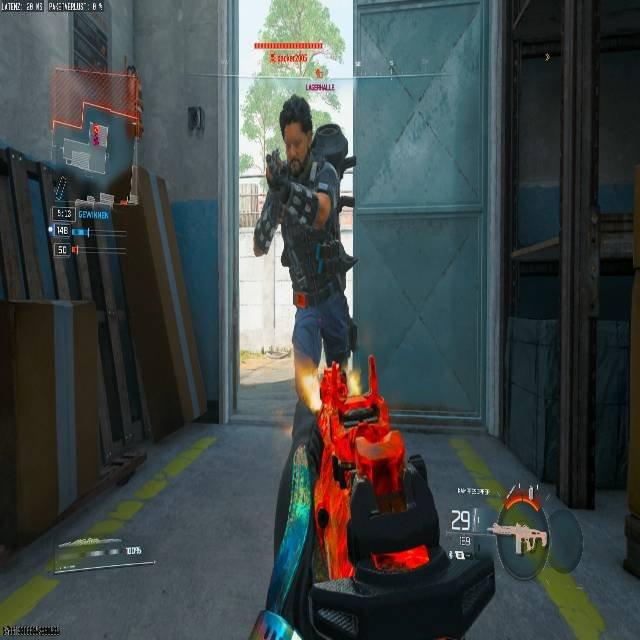head: (279, 95, 313, 159)
player: (252, 96, 357, 418), (252, 85, 366, 257)
